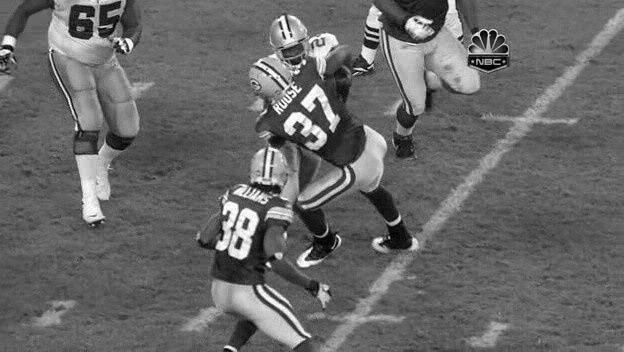person: (273, 21, 309, 67), (272, 21, 308, 67), (274, 21, 310, 67), (273, 20, 309, 66), (273, 22, 309, 68)
target_negative: (87, 38, 485, 155), (83, 200, 277, 317), (329, 64, 441, 237), (284, 300, 613, 319), (506, 292, 615, 335), (587, 272, 620, 331)
